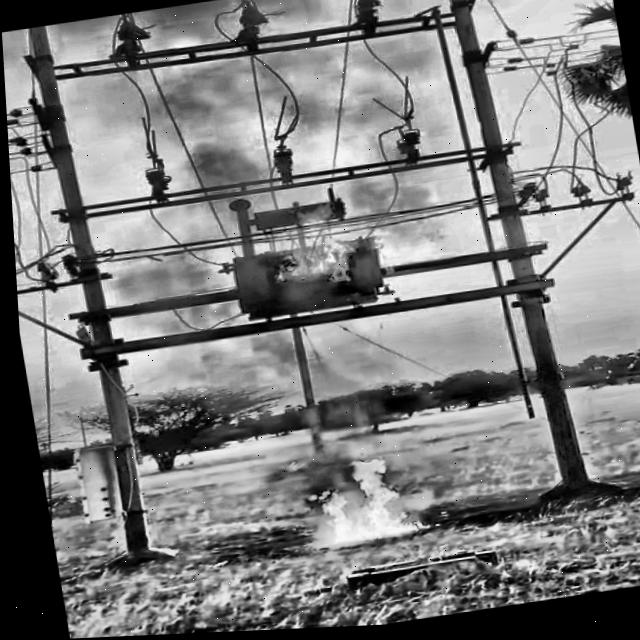Fire: (274, 438, 434, 562), (252, 191, 405, 316)
